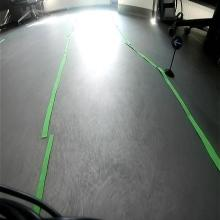left: (171, 35, 183, 50)
